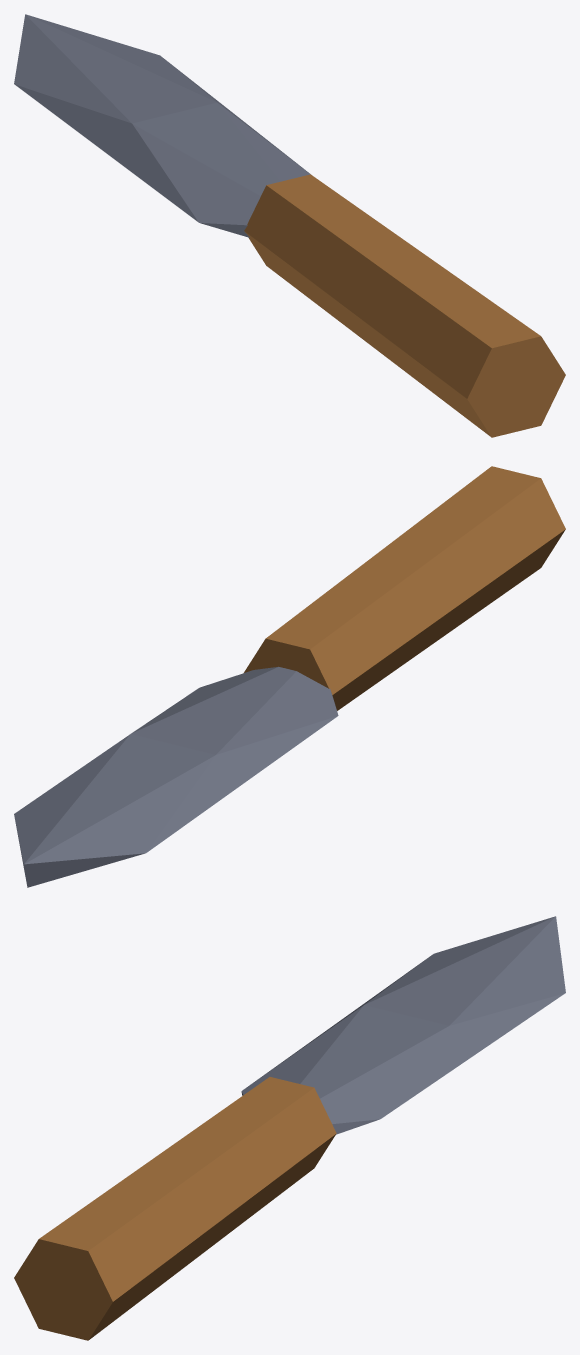
File: knife.glb
The picture shows the model from 3 angles, top to bottom: view 1: azimuth 30°, elevation 25°; view 2: azimuth 150°, elevation 25°; view 3: azimuth 330°, elevation 25°; orthographic projection.
Parts seen in each view (by area): view 1: knife; view 2: knife; view 3: knife.
Boxes of the visible parts, x1=… form: knife: x1=14, y1=14, x2=565, y2=437; knife: x1=14, y1=466, x2=565, y2=887; knife: x1=14, y1=916, x2=565, y2=1340.
Bounding box in the file's own units: 0.0577 × 0.0346 × 0.3447.
